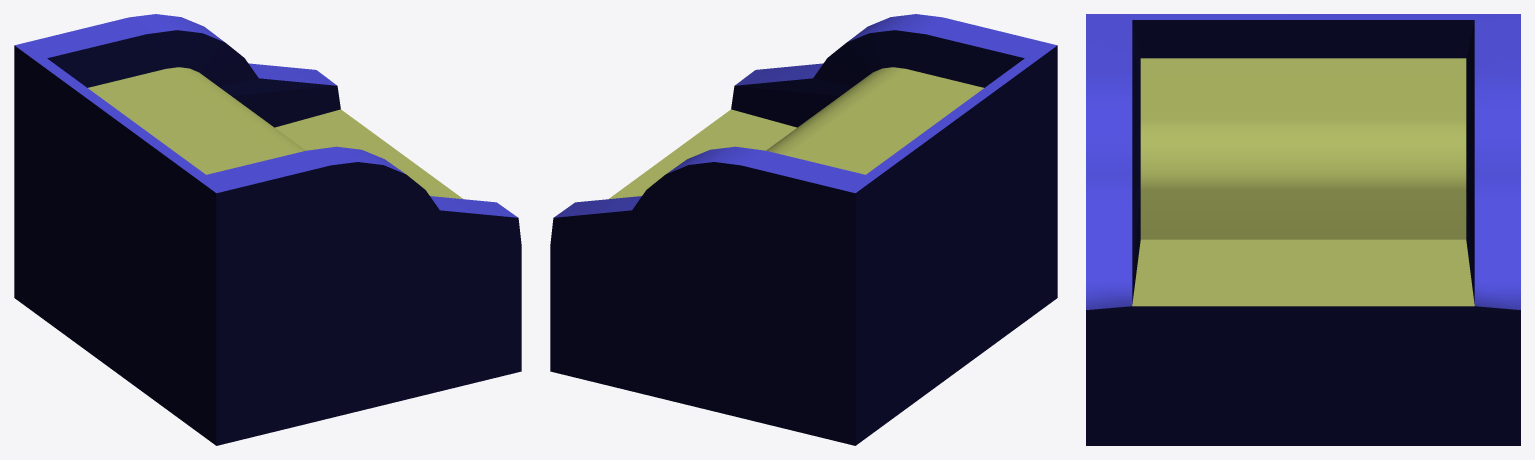
The model's file is counter.fbx.
The picture shows the model from 3 angles, left to right: view 1: azimuth 30°, elevation 25°; view 2: azimuth 150°, elevation 25°; view 3: azimuth 270°, elevation 25°; orthographic projection. The views are drawn at different scales.
Parts seen in each view (by area): view 1: counter; view 2: counter; view 3: counter.
Boxes of the visible parts, box(x1,y1,x2,y2) form: counter: box(14, 14, 521, 445); counter: box(550, 14, 1057, 445); counter: box(1086, 14, 1520, 445).
Bounding box in the file's own units: 96.09 × 76.03 × 110.
